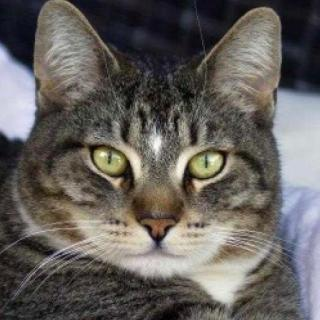cat: (30, 3, 287, 282)
nose: (135, 210, 178, 251)
